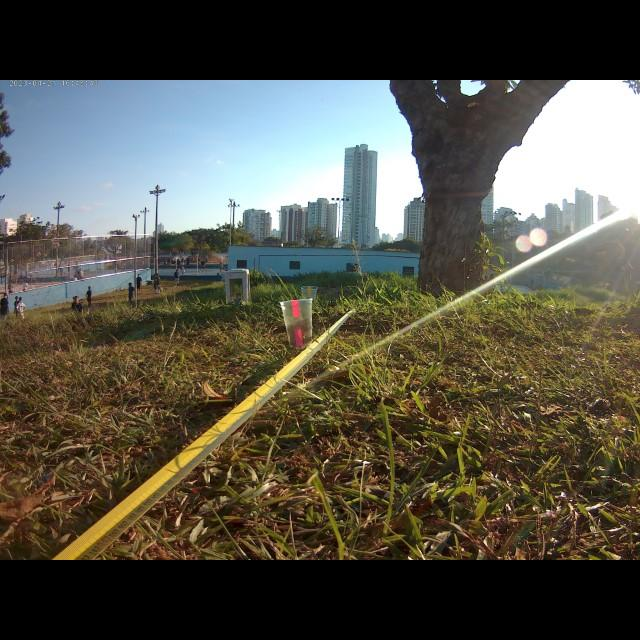arvore: (382, 80, 572, 304)
